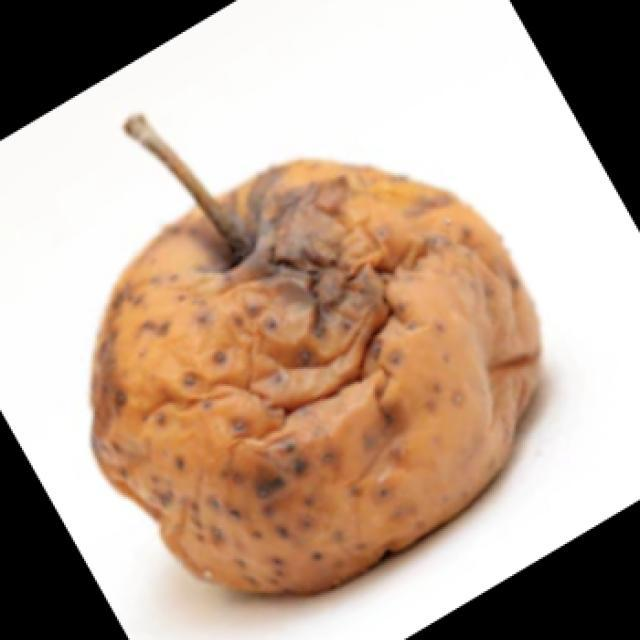Rotten: (106, 155, 536, 585)
